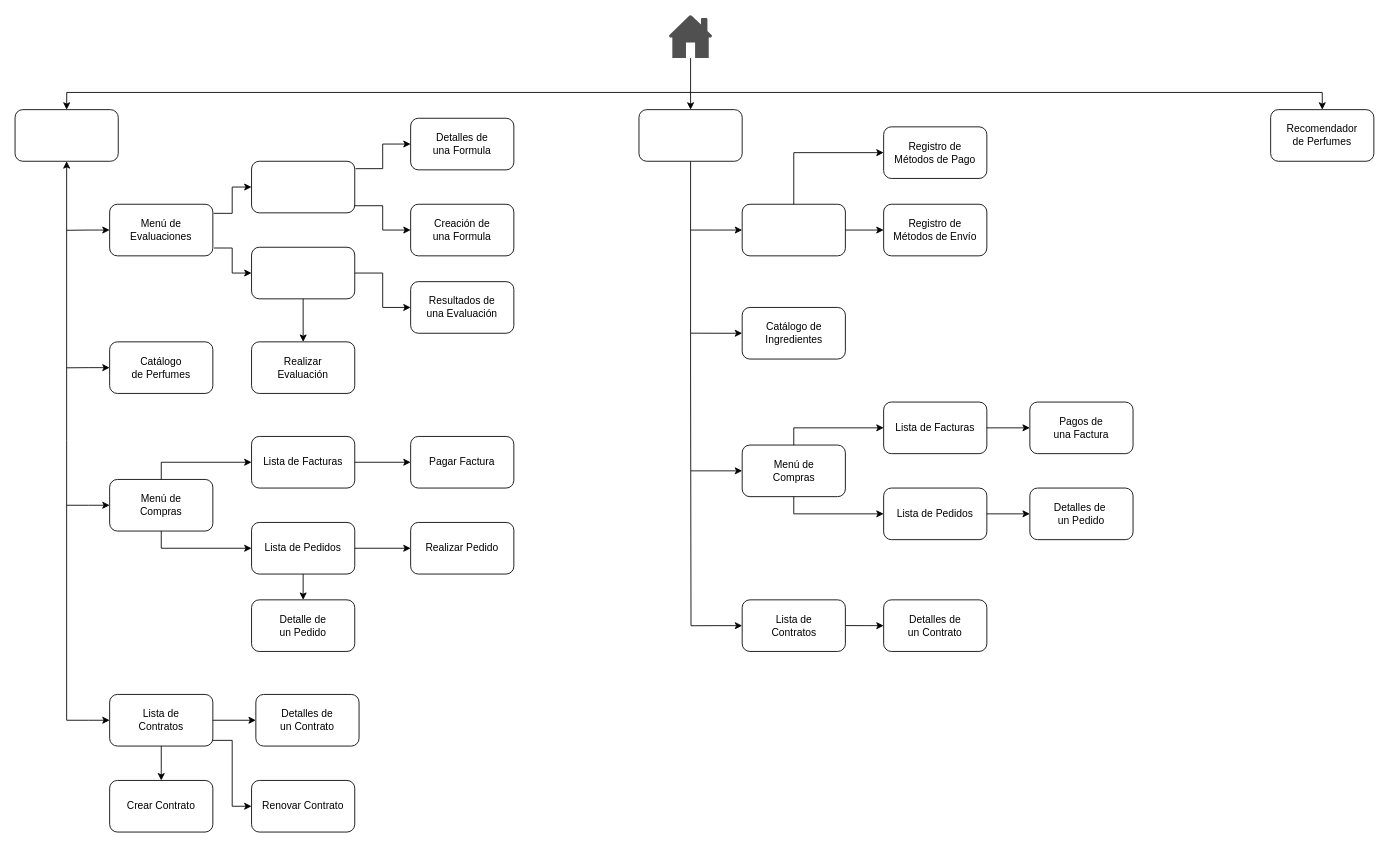
The diagram is 1389 pixels wide and 847 high, and some of its shapes have lost their labels. Here are the shapes that lost their labels. From the top down, the box of each, then its label:
(14, 109, 118, 161): Menú Productor
(638, 109, 742, 161): Menú Proveedor
(251, 160, 355, 213): Lista de Formulas
(741, 203, 845, 256): Registro de Proveedor
(251, 246, 355, 299): Lista de Evaluaciones
